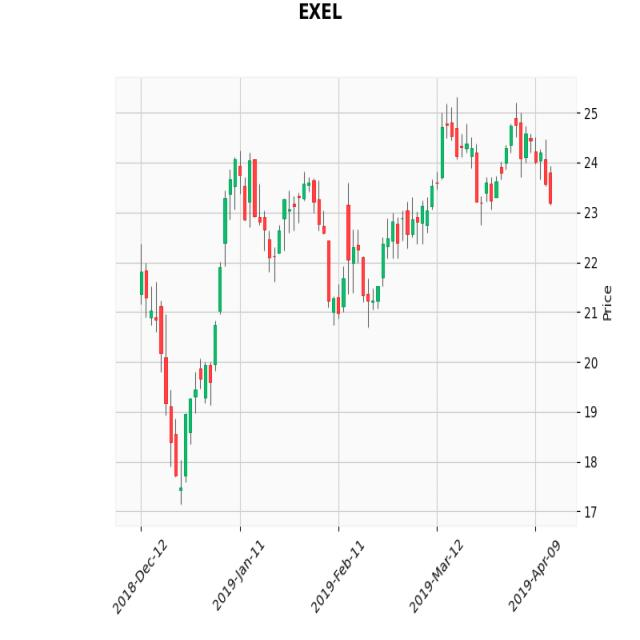Double-Top: (210, 150, 342, 316)
